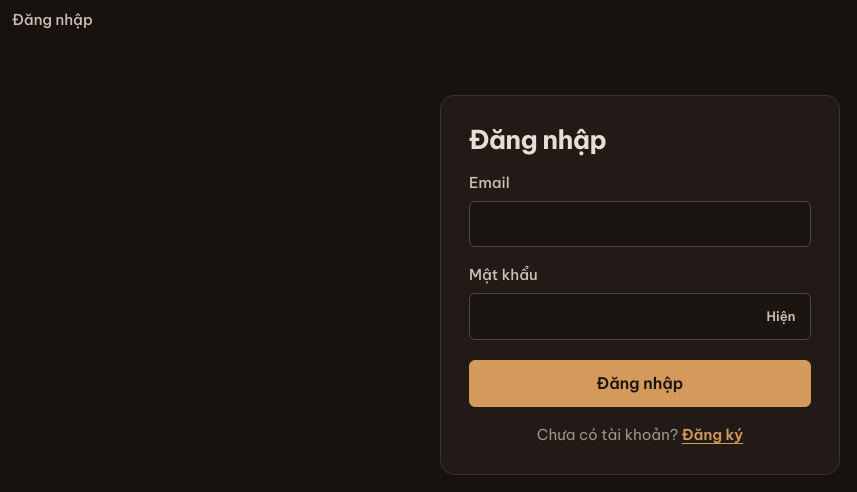
Scenario: AuthForm › nút Hiện/Ẩn đổi kiểu ô mật khẩu mà không xoá nội dung đã nhập
Type "matkhau123" into the password field labelled "Mật khẩu" at {"x": 640, "y": 316}, box [469,293,811,340]
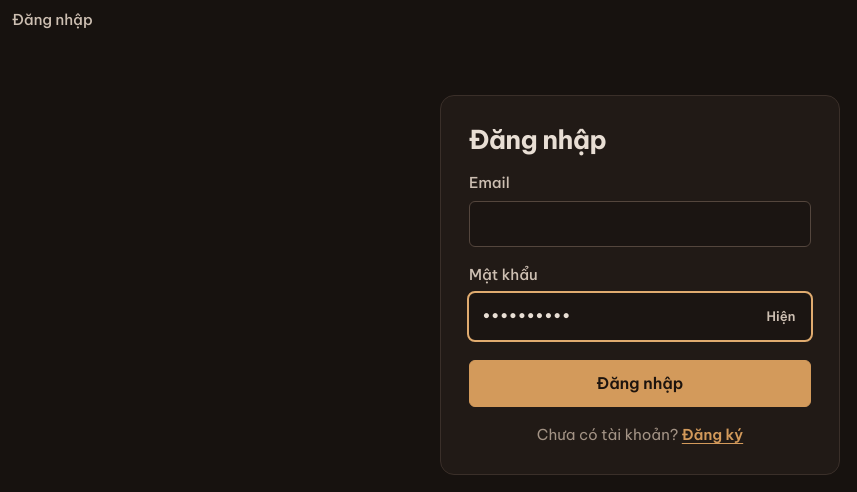
Click the button named "Hiện mật khẩu" at {"x": 781, "y": 316}, box [757,300,805,332]
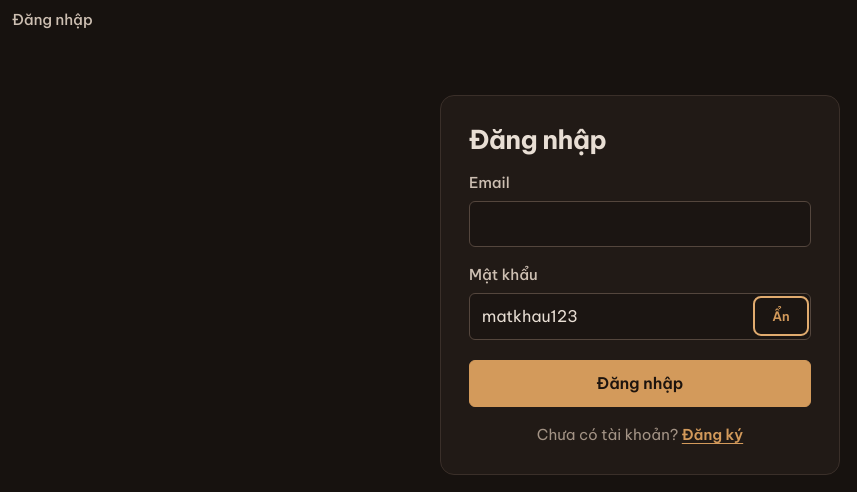
Expected: the field labelled "Mật khẩu" shows its text, [469,293,811,340]
Click the button named "Ẩn mật khẩu" at {"x": 781, "y": 316}, box [757,300,805,332]
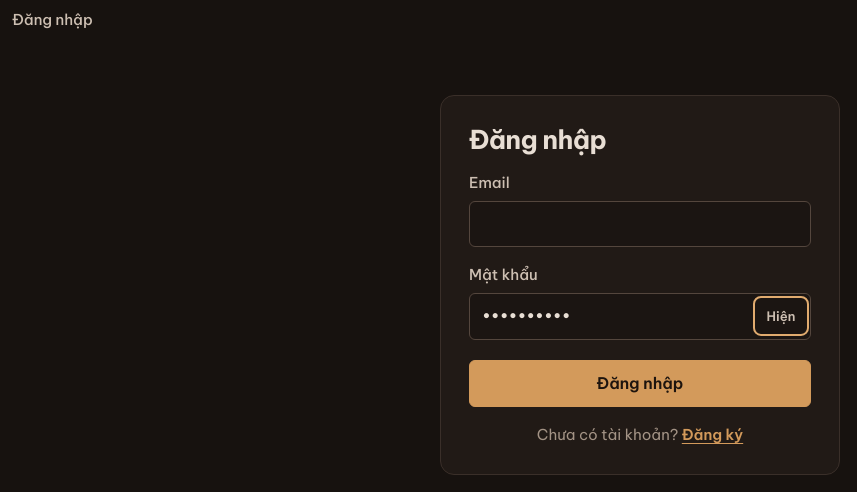
Expected: the password field labelled "Mật khẩu" hides its text, [469,293,811,340]
